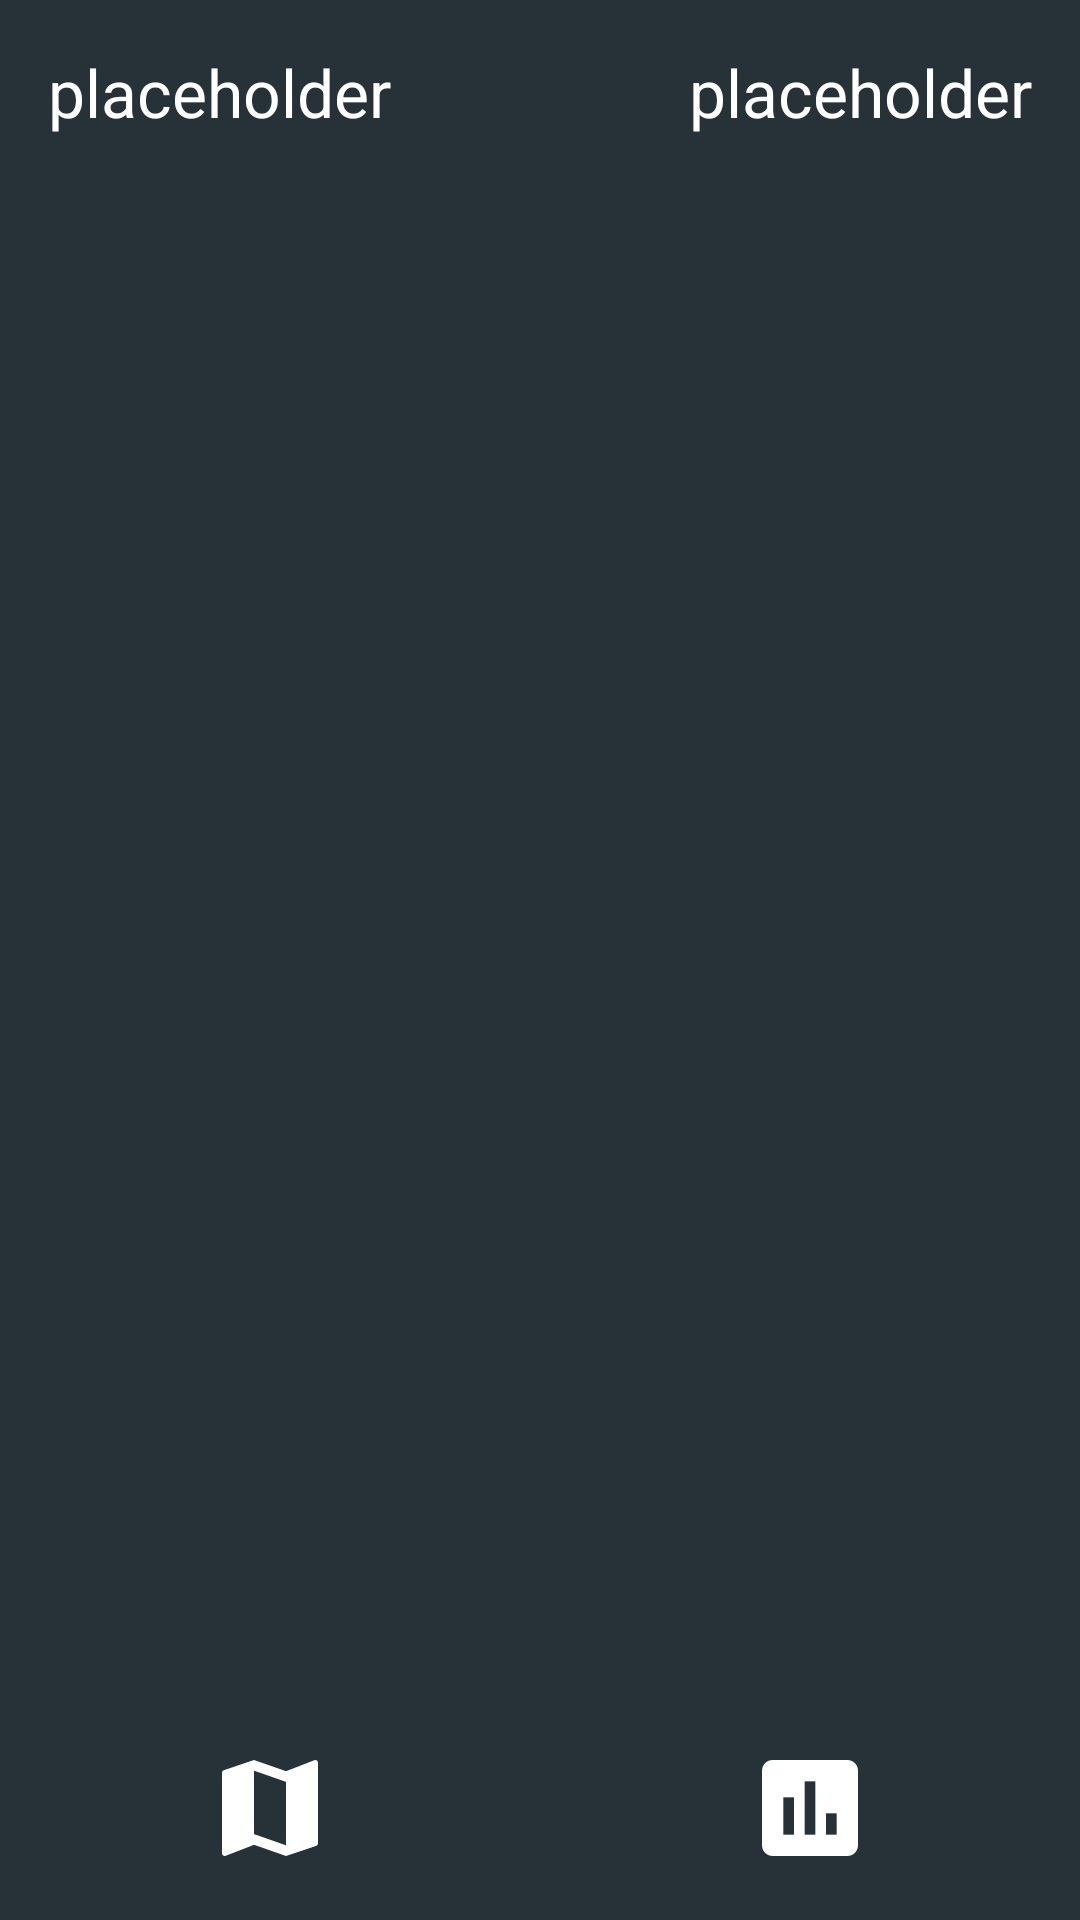

Icon bounding boxes for this 1080*1920 phone screenshot, format (x1, y1, x2, y2):
assessment: (762, 1760, 858, 1856)
map: (222, 1760, 318, 1856)
